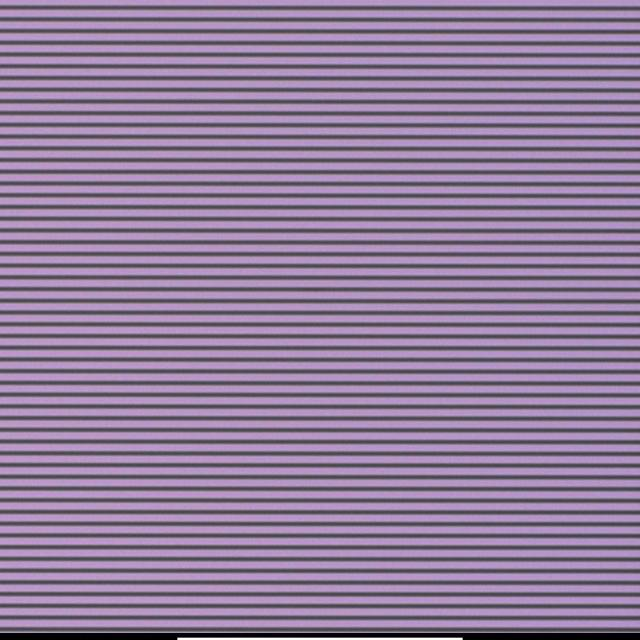nonvisual: (345, 291, 353, 300)
